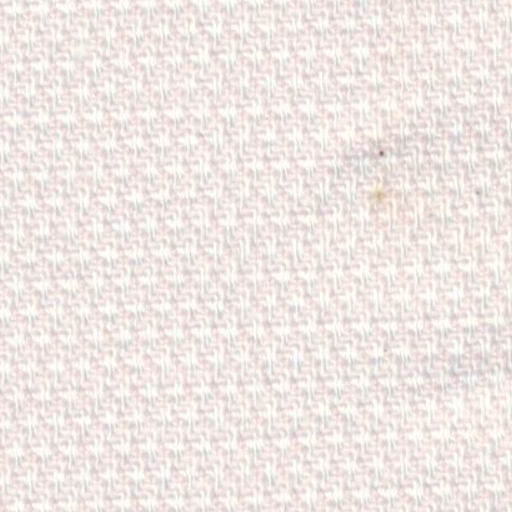WuZi: (336, 124, 440, 216)
